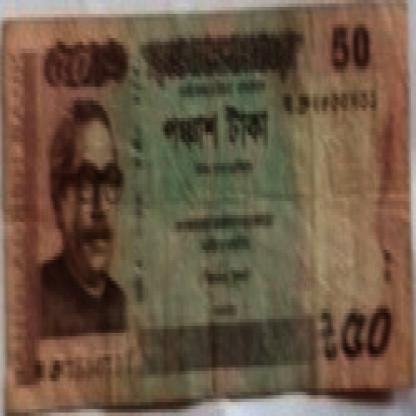Fifty taka: (320, 267, 394, 392), (40, 35, 128, 111)
